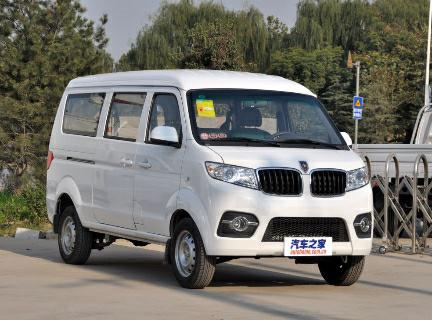金杯-小海狮X30: (38, 67, 378, 295)
